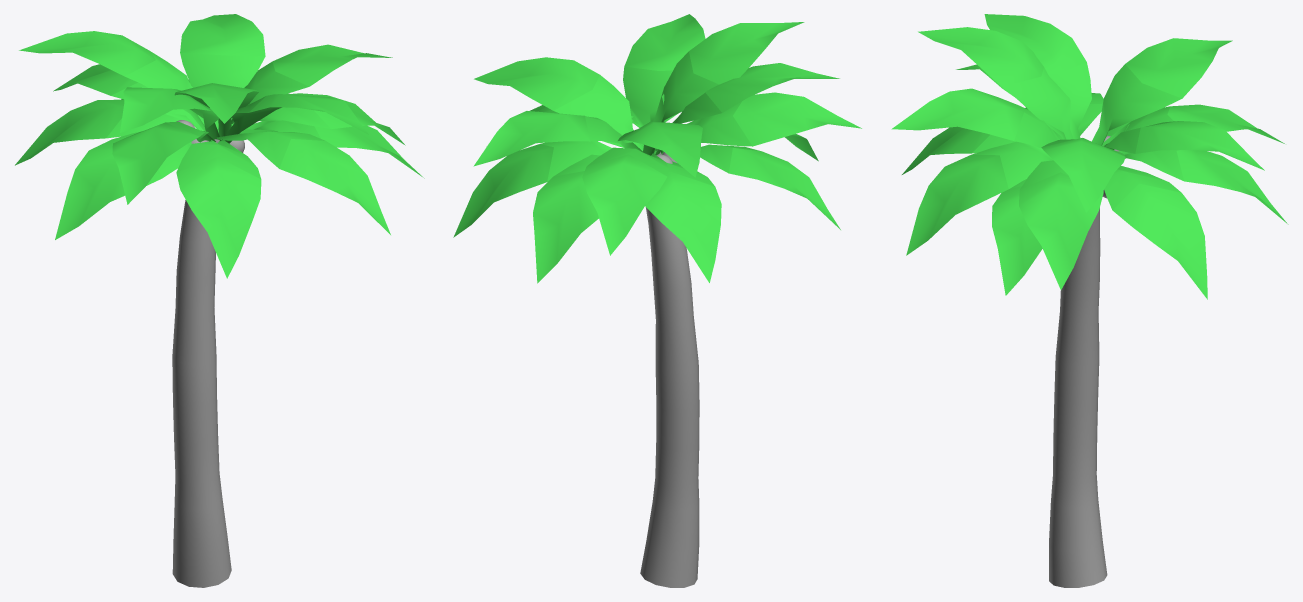
File: Palmera2.fbx
The picture shows the model from 3 angles, left to right: view 1: azimuth 30°, elevation 25°; view 2: azimuth 150°, elevation 25°; view 3: azimuth 270°, elevation 25°; orthographic projection. The views are drawn at different scales.
Parts seen in each view (by area): view 1: Plantas, Cocos1; view 2: Plantas, Cocos1; view 3: Plantas, Cocos1.
Boxes of the visible parts, left/top/right/bottom form: Plantas: left=15, top=14, right=424, bottom=278; Cocos1: left=172, top=120, right=244, bottom=587; Plantas: left=453, top=14, right=861, bottom=283; Cocos1: left=640, top=152, right=699, bottom=587; Plantas: left=891, top=14, right=1288, bottom=299; Cocos1: left=1049, top=135, right=1119, bottom=587.
Size of the model in its own units: 534 by 758 by 518.
